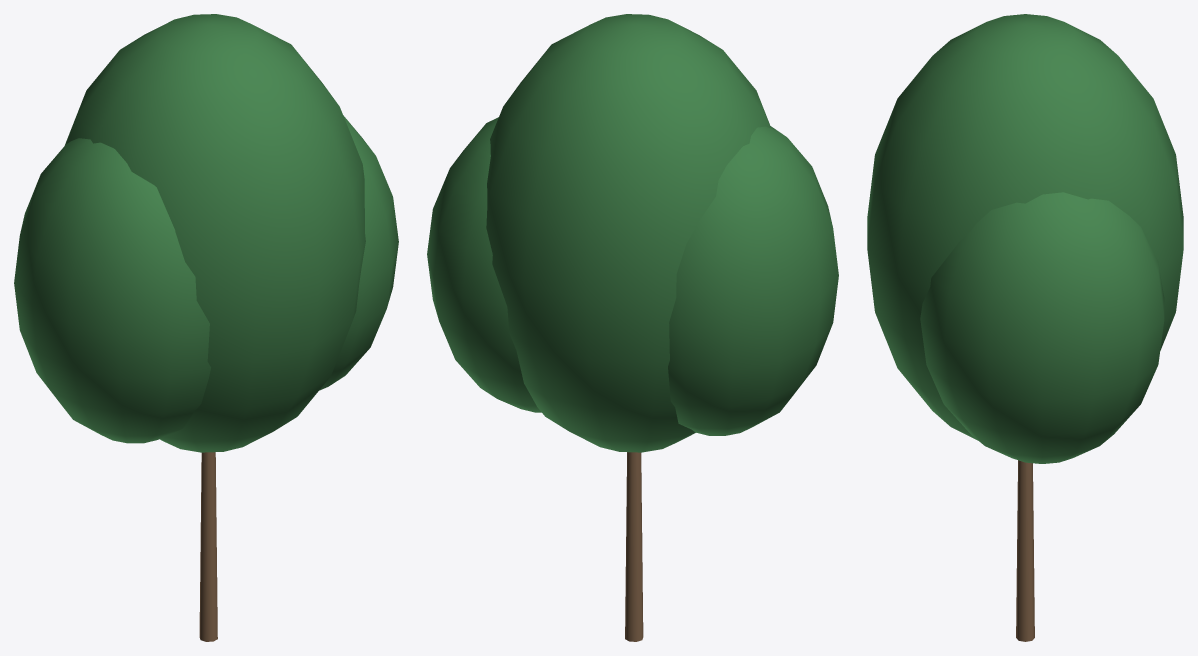
The model's file is broadleaf_unit.glb.
3 renders of one model, left to right at view 1: azimuth 30°, elevation 25°; view 2: azimuth 150°, elevation 25°; view 3: azimuth 270°, elevation 25°, orthographic.
Visible parts, largest first — view 1: TreeCrown, TreeTrunk; view 2: TreeCrown, TreeTrunk; view 3: TreeCrown, TreeTrunk.
Part boxes in pixels (x1,y1,x2,y2): TreeCrown: [14, 14, 398, 452]; TreeTrunk: [199, 452, 217, 641]; TreeCrown: [427, 14, 838, 452]; TreeTrunk: [625, 452, 643, 641]; TreeCrown: [867, 14, 1183, 463]; TreeTrunk: [1016, 460, 1034, 641].
Bounding box in the file's own units: 0.62 × 1 × 0.468.
